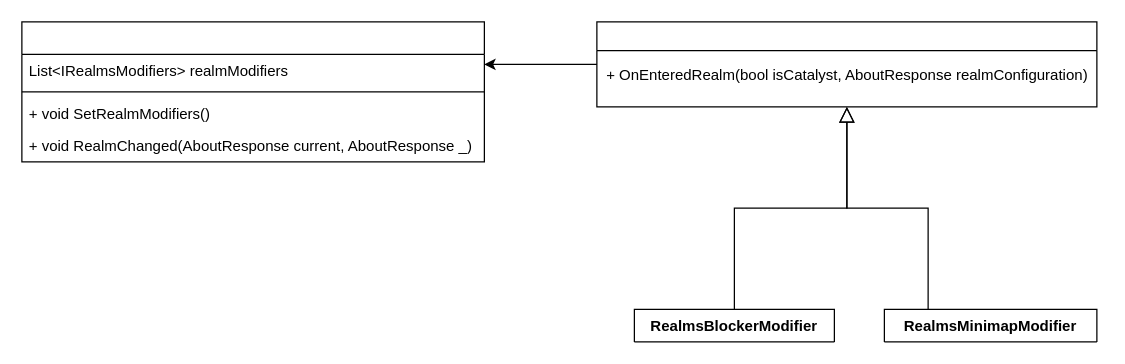
The diagram is 1125 pixels wide and 364 high, and some of its shapes have lost their labels. The shapes that lost their labels are listed below. From the top down, each one's box as (x1, y1, x2, y2) in pixels, then its label:
(596, 21, 1097, 107): IRealmModifier
(21, 21, 484, 162): RealmPlugin
